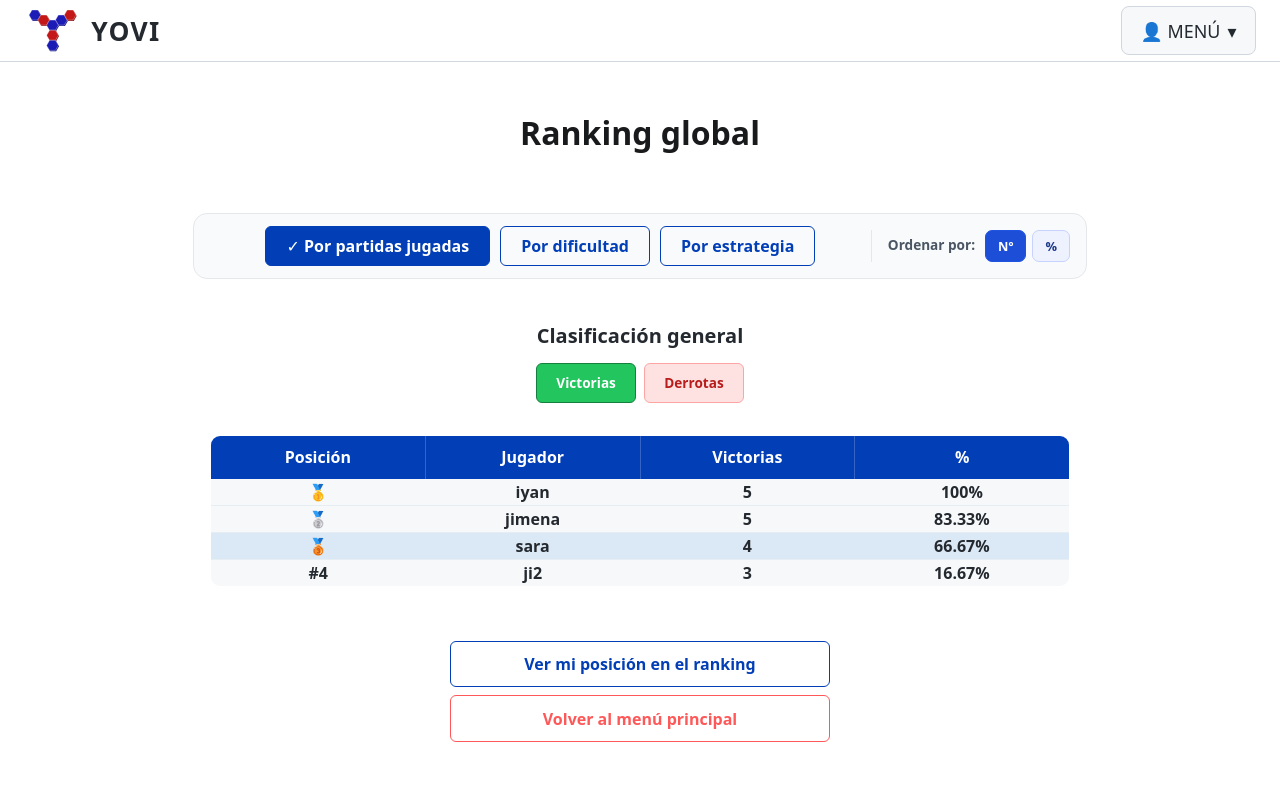
Scenario: Ranking › activa y desactiva sección al pulsar filtro
The width and height of the screenshot is (1280, 800).
Expected: the heading "Clasificación general" is shown, [537,321,743,351]
Click the button "✓ Por partidas jugadas": (378, 246) [266,226,490,266]
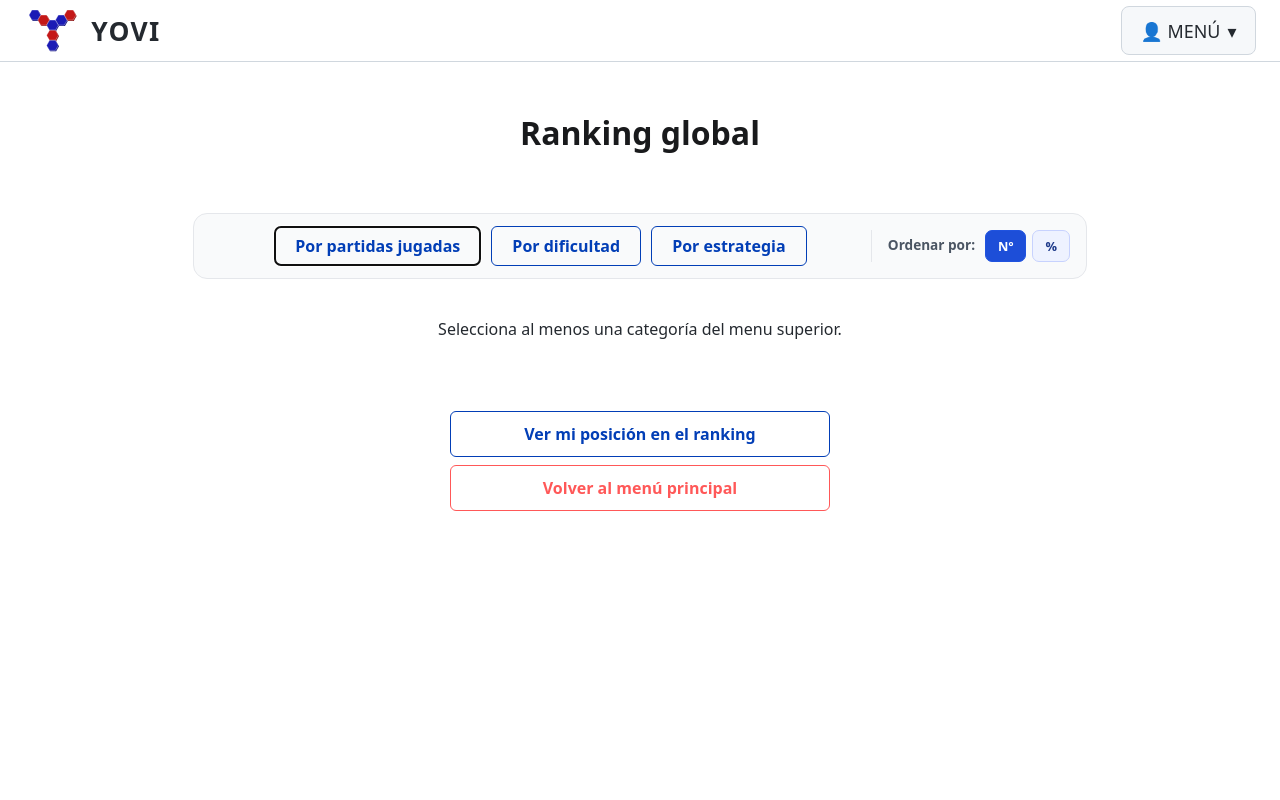
Result: the heading "Clasificación general" is gone
